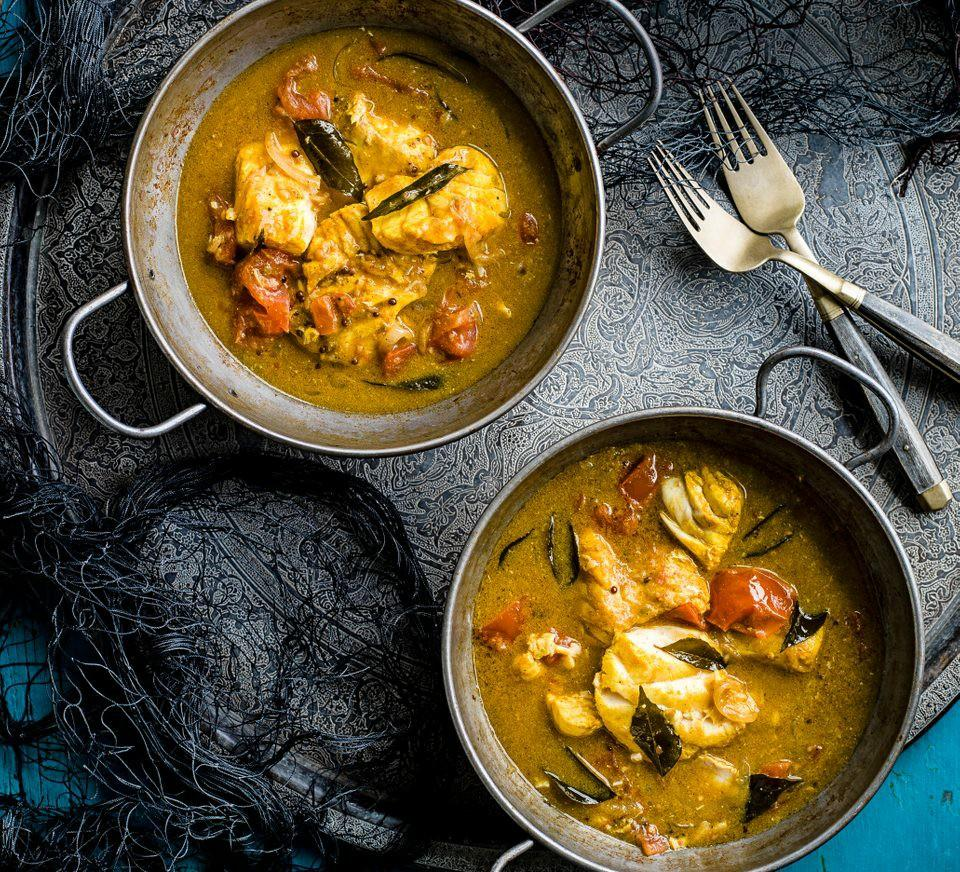FishCurry: (477, 444, 876, 849), (171, 31, 558, 414)
